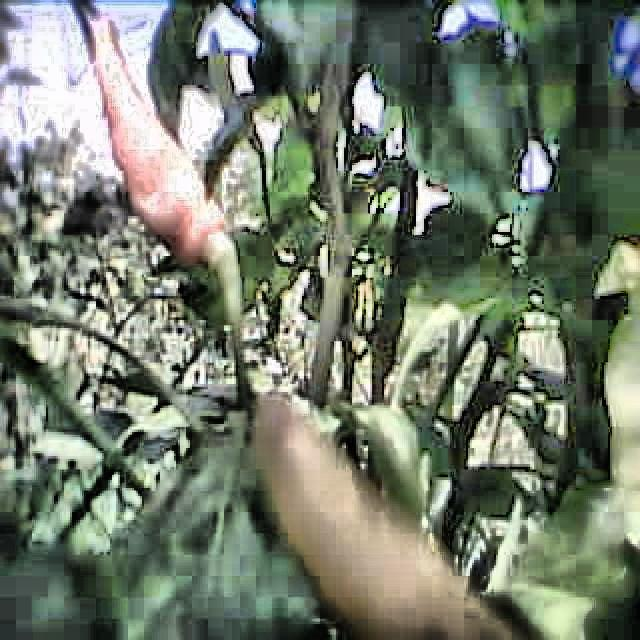Cabai: (85, 36, 261, 284)
